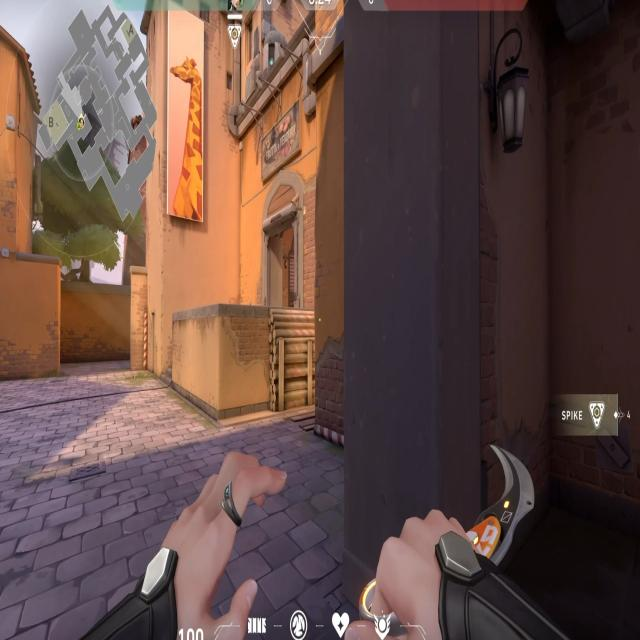B_Cubby: (207, 305, 330, 442)
